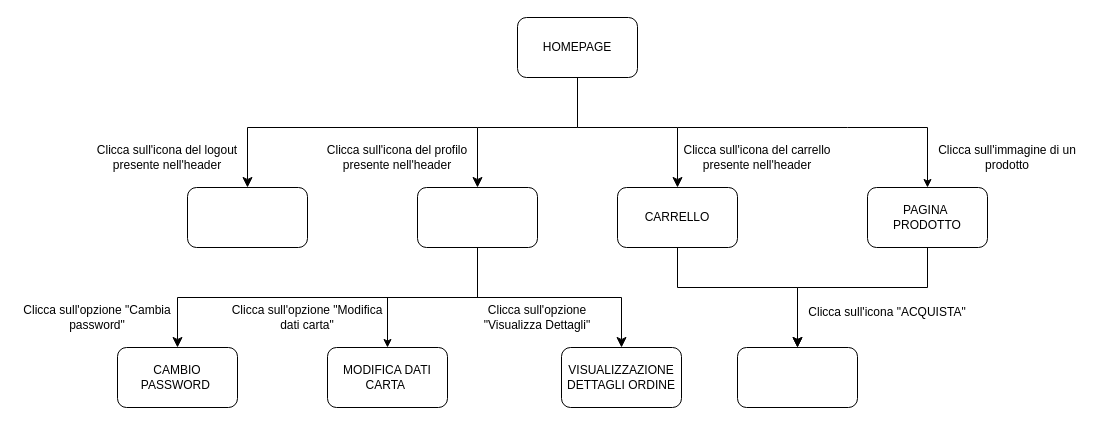
Image size: 1104x425. Some labels were removed from this diagram. The shapes that lost their labels are listed below. From the top down, each one's centre as x and y in pixels, then its label:
point (247, 217): LOGOUT
point (477, 217): PAGINA UTENTE
point (797, 377): PAGINA ACQUISTO
